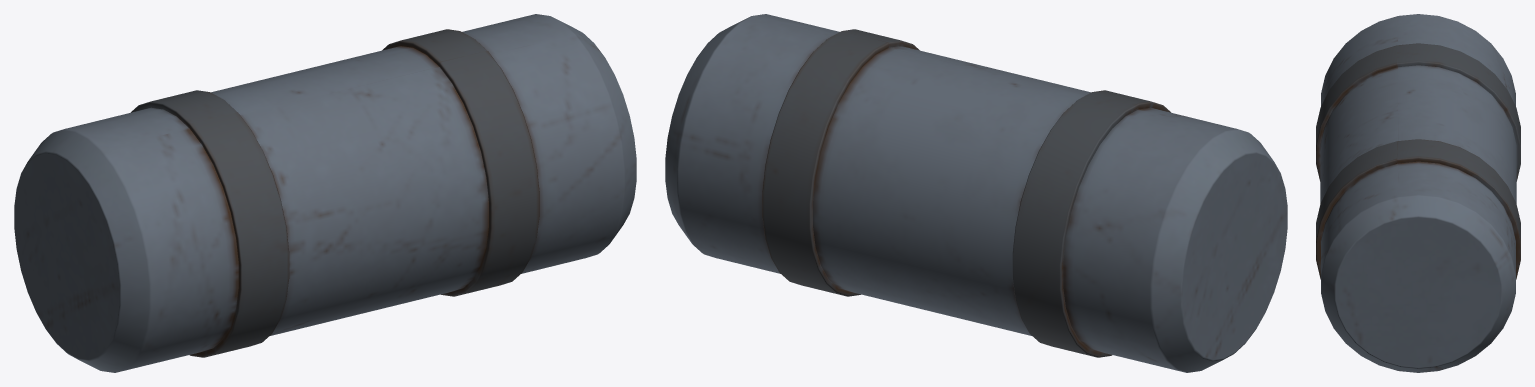
The model's file is SM_VentilatorPipeSmall.fbx.
3 views of the same model, side by side, from view 1: azimuth 30°, elevation 25°; view 2: azimuth 150°, elevation 25°; view 3: azimuth 270°, elevation 25° (orthographic). The views are drawn at different scales.
Visible parts, largest first — view 1: SM_VentilatorPipeSmall_LOD0; view 2: SM_VentilatorPipeSmall_LOD0; view 3: SM_VentilatorPipeSmall_LOD0.
Boxes of the visible parts, x1,y1,x2,y2 form: SM_VentilatorPipeSmall_LOD0: (14,14,636,372); SM_VentilatorPipeSmall_LOD0: (665,14,1287,372); SM_VentilatorPipeSmall_LOD0: (1316,14,1520,372).
Bounding box in the file's own units: 88.49 × 38.65 × 38.86.
1 material, 1 textured.
